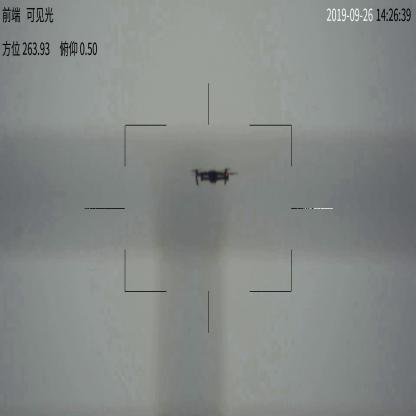uav: (188, 166, 235, 185)
